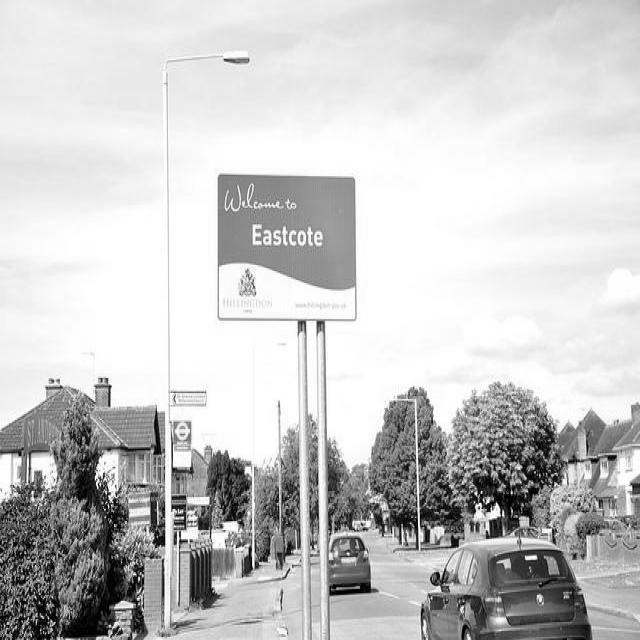vehicle: (419, 528, 595, 640), (328, 532, 371, 594), (505, 527, 541, 539), (353, 521, 369, 531)
